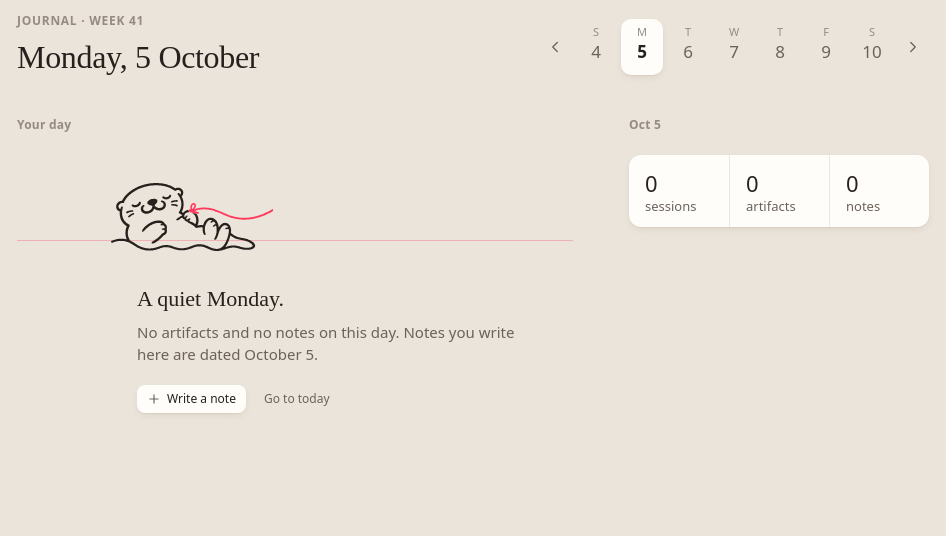
Test: JournalView: header and week strip › moves by a week with ‹ › and selects a day by clicking it, in the same tab
The width and height of the screenshot is (946, 536).
Expected: the heading "Monday, 5 October" is shown, x1=17 y1=39 x2=259 y2=75
What coordinates should you click on to do the following:
click the button named "Next week"
I would click on:
 (913, 47)
Its box is x1=897 y1=31 x2=929 y2=63.
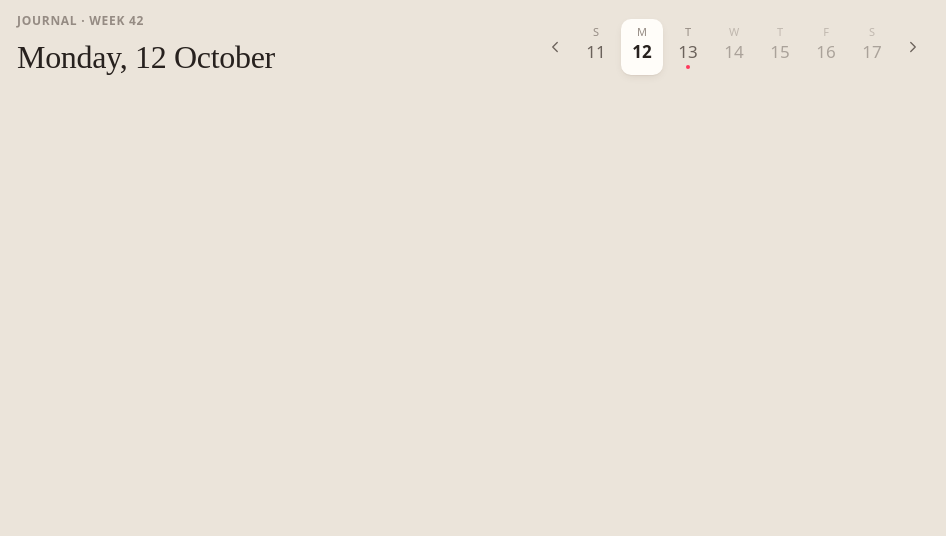
Expected: the heading reads "Monday, 12 October", x1=17 y1=39 x2=275 y2=75
What coordinates should you click on to do the following:
click the button named "Previous week"
I would click on:
 (555, 47)
Its box is x1=539 y1=31 x2=571 y2=63.
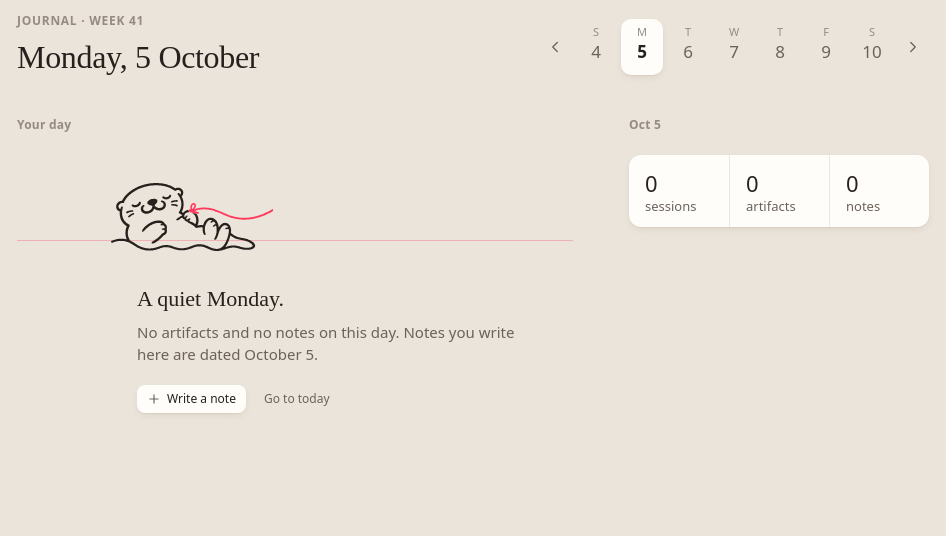
What coordinates should you click on to do the following:
click the button named "Previous week"
I would click on:
 (555, 47)
Its box is x1=539 y1=31 x2=571 y2=63.
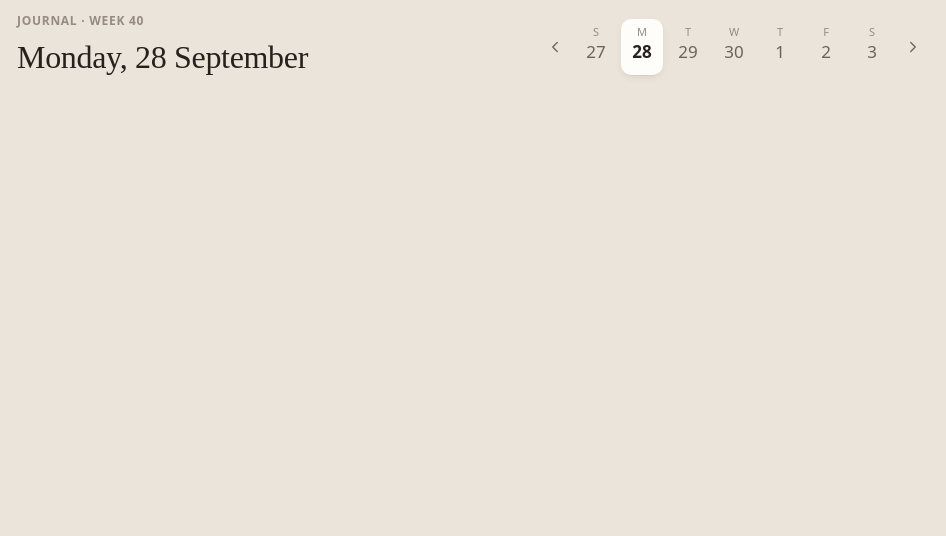
What coordinates should you click on to do the following:
click the button named "Oct 3"
I would click on:
 (872, 47)
Its box is x1=851 y1=19 x2=893 y2=75.
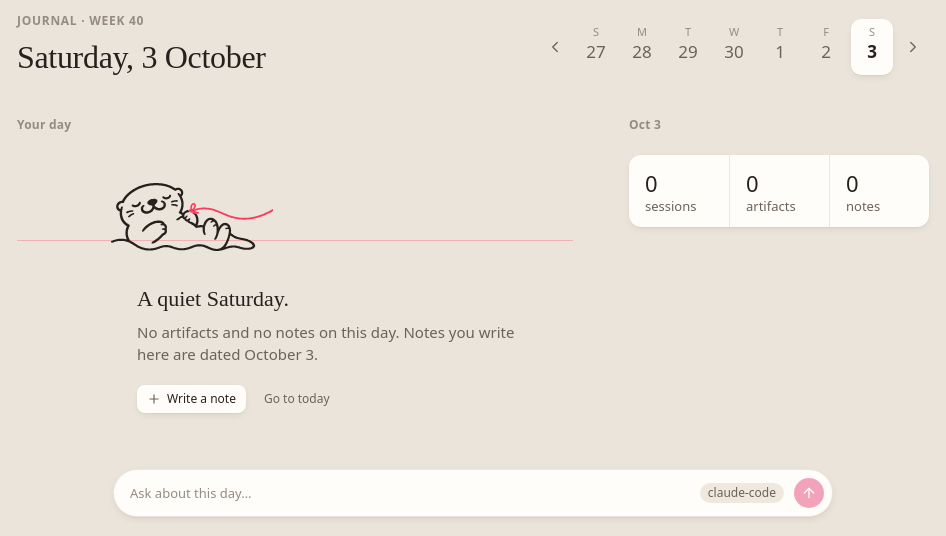
Expected: the heading "Saturday, 3 October" is shown, x1=17 y1=39 x2=266 y2=75
